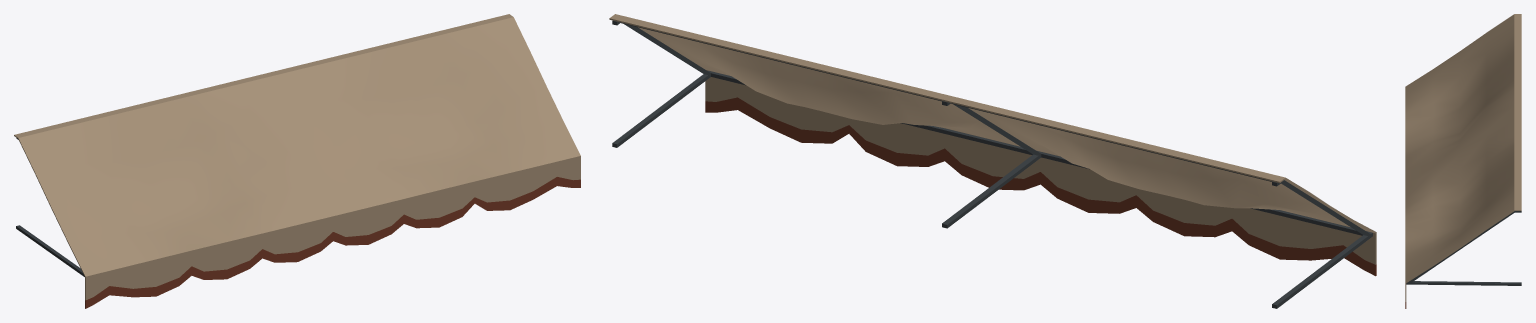
The model's file is SM_BuildingsDecor_36.fbx.
3 renders of one model, left to right at view 1: azimuth 30°, elevation 25°; view 2: azimuth 150°, elevation 25°; view 3: azimuth 270°, elevation 25°, orthographic. The views are drawn at different scales.
Parts seen in each view (by area): view 1: SM_BuildingsDecor_36; view 2: SM_BuildingsDecor_36; view 3: SM_BuildingsDecor_36.
Part boxes in pixels (<box>): SM_BuildingsDecor_36: <box>14,14,580,308</box>; SM_BuildingsDecor_36: <box>609,14,1376,308</box>; SM_BuildingsDecor_36: <box>1405,14,1521,308</box>.
Size of the model in its own units: 5 by 1.22 by 1.25.
